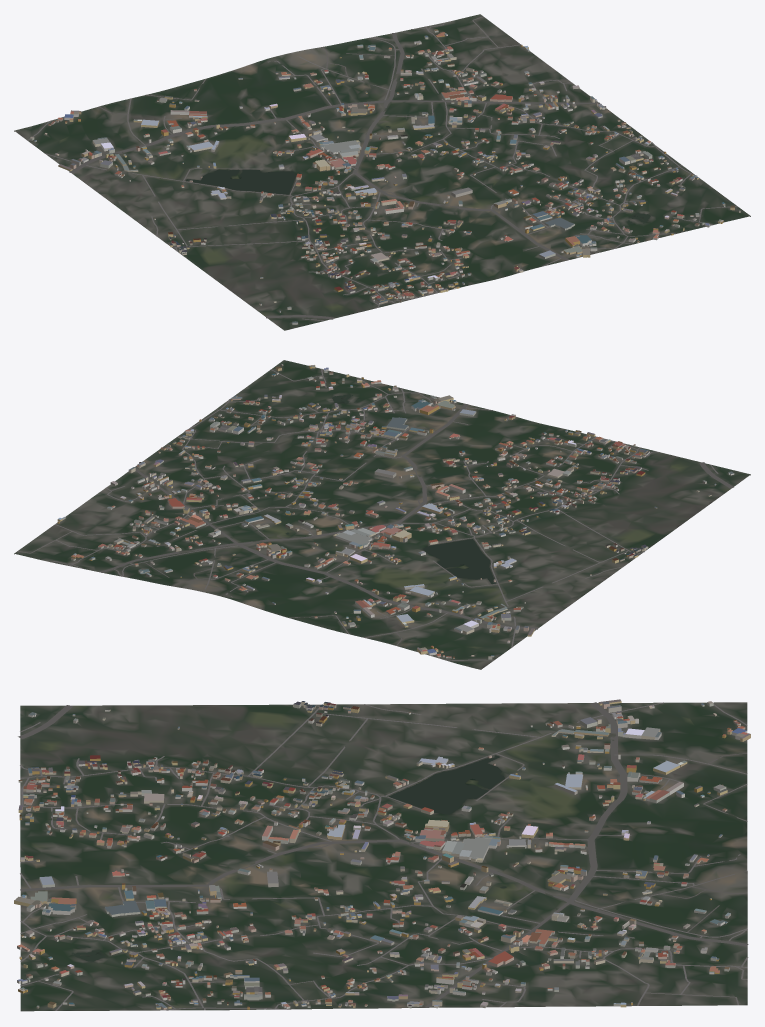
3 renders of one model, top to bottom at view 1: azimuth 30°, elevation 25°; view 2: azimuth 150°, elevation 25°; view 3: azimuth 270°, elevation 25°, orthographic. The views are drawn at different scales.
Visible parts, largest first — view 1: ground, buildings, roads, water; view 2: ground, buildings, roads, water; view 3: ground, buildings, roads, water.
Boxes of the visible parts, left/top/right/bottom form: ground: left=14, top=14, right=750, bottom=330; buildings: left=29, top=29, right=740, bottom=324; roads: left=27, top=16, right=737, bottom=320; water: left=186, top=126, right=650, bottom=224; ground: left=14, top=360, right=750, bottom=669; buildings: left=57, top=364, right=734, bottom=659; roads: left=17, top=369, right=733, bottom=660; water: left=286, top=394, right=495, bottom=583; ground: left=20, top=702, right=747, bottom=1011; buildings: left=14, top=699, right=750, bottom=1009; roads: left=18, top=702, right=748, bottom=1010; water: left=71, top=755, right=506, bottom=961.
Bounding box in the file's own units: 1411 × 40.1 × 1421.
